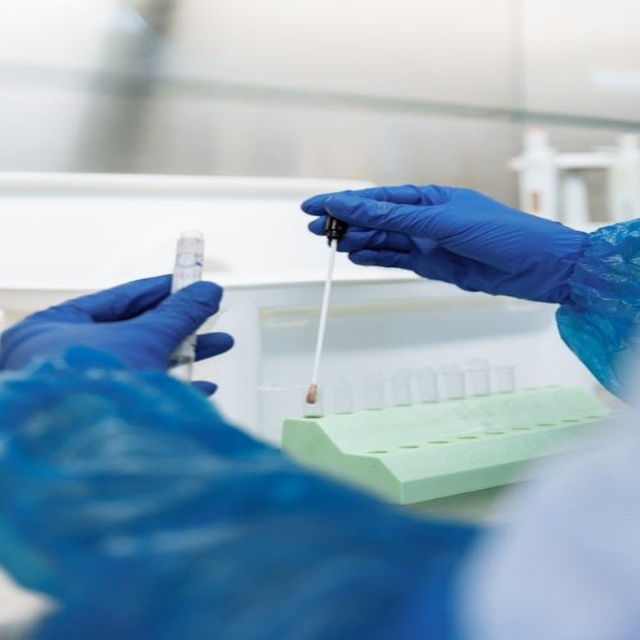Guantes: (299, 185, 592, 304), (0, 272, 234, 390)
